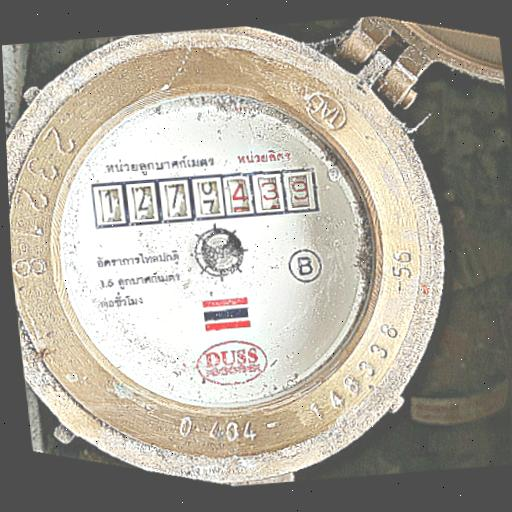1: (99, 190, 121, 222)
2: (131, 187, 155, 220)
3: (257, 176, 280, 211)
4: (228, 179, 250, 214)
6: (198, 182, 220, 215)
7: (165, 184, 187, 217)
9: (287, 176, 311, 207)
border_water_meter_number: (90, 166, 322, 229)
